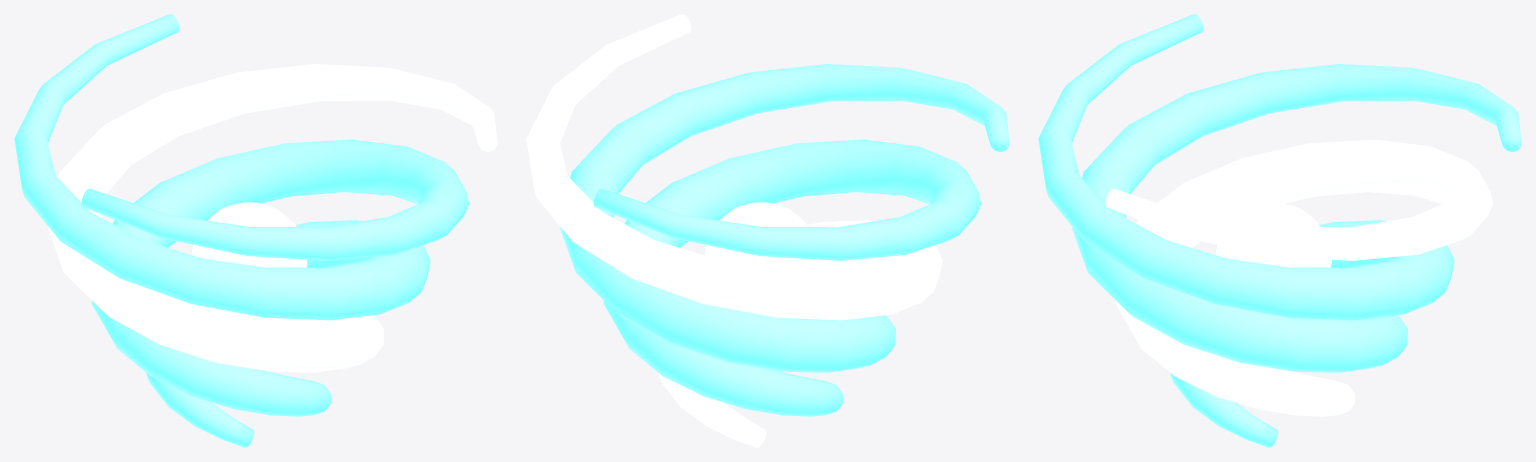
Rendered from onda_de_vento.glb.
3 renders of one model, left to right at view 1: azimuth 30°, elevation 25°; view 2: azimuth 150°, elevation 25°; view 3: azimuth 270°, elevation 25°, orthographic.
Parts seen in each view (by area): view 1: OndaDeVentoMesh; view 2: OndaDeVentoMesh; view 3: OndaDeVentoMesh.
Part boxes in pixels (x1,y1,x2,y2): OndaDeVentoMesh: [14, 14, 497, 447]; OndaDeVentoMesh: [526, 14, 1009, 447]; OndaDeVentoMesh: [1038, 14, 1521, 447].
Bounding box in the file's own units: 1.07 × 0.7598 × 1.07.
